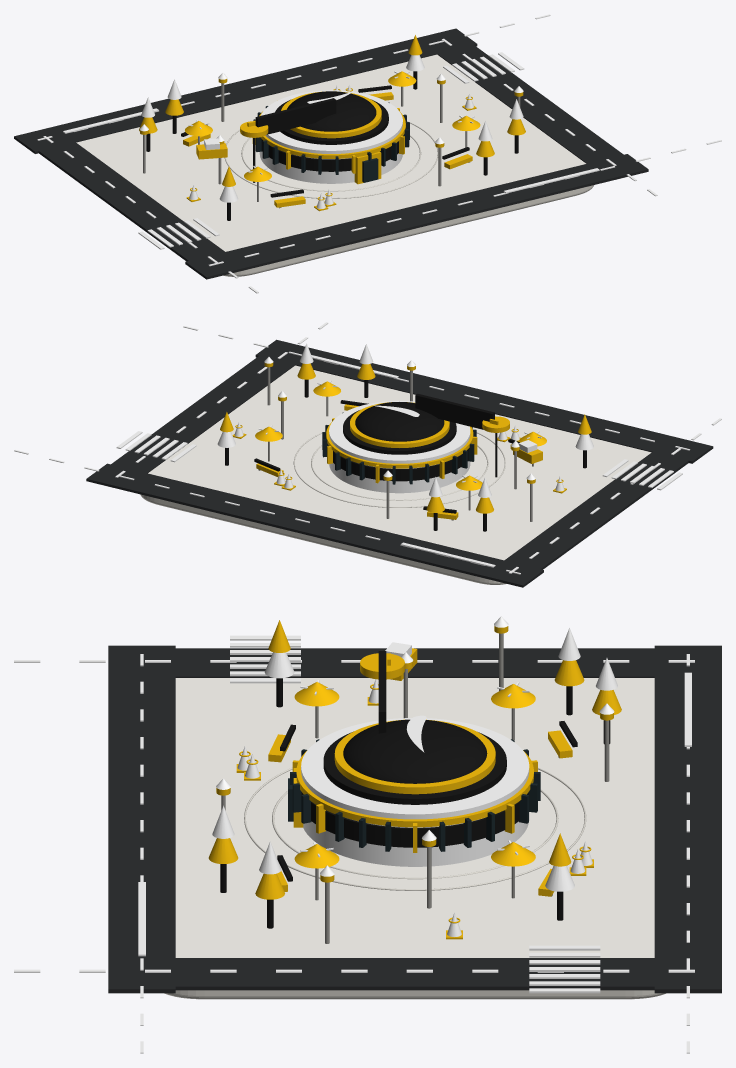
Rendered from zona_plaza_central.glb.
The picture shows the model from 3 angles, top to bottom: view 1: azimuth 30°, elevation 25°; view 2: azimuth 150°, elevation 25°; view 3: azimuth 270°, elevation 25°; orthographic projection. The views are drawn at different scales.
Parts seen in each view (by area): view 1: large rounded plaza base, surrounding black road (×4), round white plaza body, smooth black roof dome, zona_plaza central label plaque, continuous black storefront band, black circular roof lip, yellow dome under-ring, lower yellow roof ring, second plaza paving circle; view 2: large rounded plaza base, surrounding black road (×4), round white plaza body, smooth black roof dome, zona_plaza central label plaque, continuous black storefront band, black circular roof lip, yellow dome under-ring, lower yellow roof ring, second plaza paving circle; view 3: large rounded plaza base, surrounding black road (×4), round white plaza body, smooth black roof dome, yellow plaza umbrella (×4), black circular roof lip, continuous black storefront band, yellow dome under-ring, lower yellow roof ring, second plaza paving circle, label yellow marker, outer plaza paving circle (+1 smaller).
Boxes of the visible parts, x1,y1,x2,y2 form: large rounded plaza base: (76,54,593,276); surrounding black road (×4): (14,28,648,279); round white plaza body: (259,90,402,183); smooth black roof dome: (287,91,376,131); zona_plaza central label plaque: (255,98,336,134); continuous black storefront band: (261,135,403,171); black circular roof lip: (275,99,388,144); yellow dome under-ring: (281,91,381,138); lower yellow roof ring: (259,111,405,158); second plaza paving circle: (224,121,438,198); large rounded plaza base: (140,365,651,584); surrounding black road (×4): (86,339,713,587); round white plaza body: (329,401,470,493); smooth black roof dome: (355,402,444,441); zona_plaza central label plaque: (415,393,494,429); continuous black storefront band: (328,445,468,481); black circular roof lip: (343,410,456,454); yellow dome under-ring: (350,402,449,447); lower yellow roof ring: (326,421,473,468); second plaza paving circle: (293,431,505,507); large rounded plaza base: (164,678,665,999); surrounding black road (×4): (108,645,721,993); round white plaza body: (301,718,529,866); smooth black roof dome: (343,719,487,783); yellow plaza umbrella (×4): (294,682,535,868); black circular roof lip: (323,731,506,804); continuous black storefront band: (301,792,528,847); yellow dome under-ring: (334,719,495,794); lower yellow roof ring: (296,750,533,827); second plaza paving circle: (244,767,586,890); label yellow marker: (360,653,404,679); outer plaza paving circle: (272,789,558,879).
Bounding box in the file's own units: 10.49 × 1.6 × 7.57.
